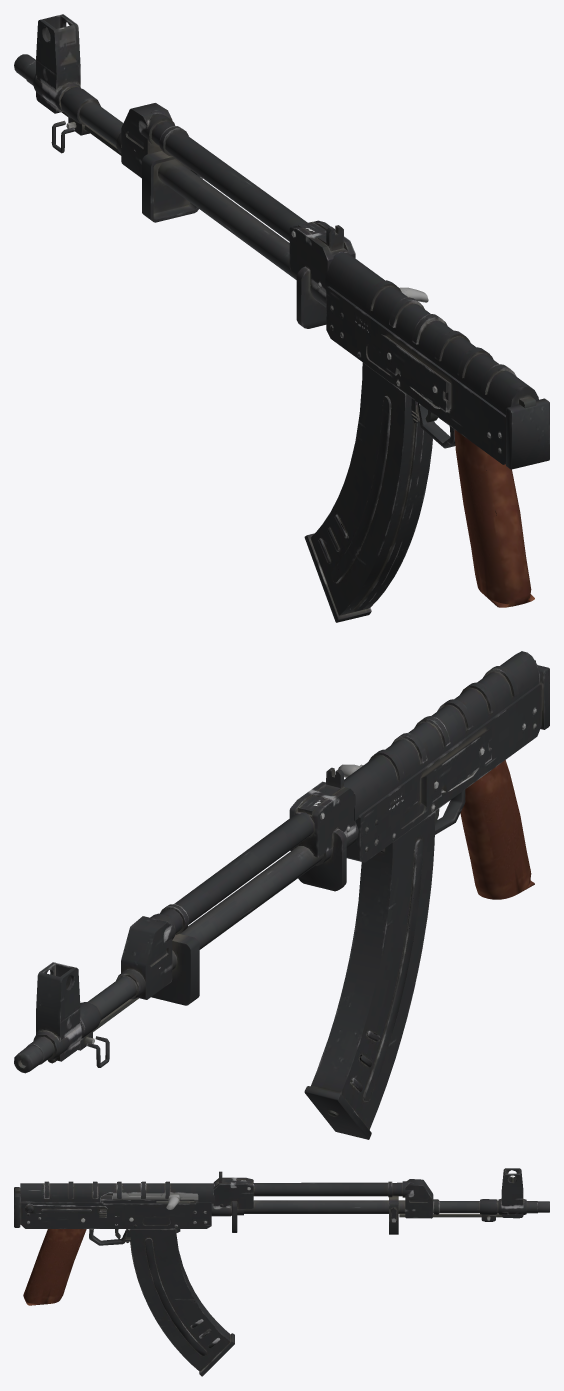
Rendered from fuzil_762_leve.glb.
The picture shows the model from 3 angles, top to bottom: view 1: azimuth 30°, elevation 25°; view 2: azimuth 150°, elevation 25°; view 3: azimuth 270°, elevation 25°; orthographic projection. The views are drawn at different scales.
Parts seen in each view (by area): view 1: fuzil_762_leve; view 2: fuzil_762_leve; view 3: fuzil_762_leve.
Boxes of the visible parts, x1,y1,x2,y2 form: fuzil_762_leve: (14,14,549,622); fuzil_762_leve: (14,651,549,1139); fuzil_762_leve: (14,1168,549,1376).
Size of the model in its own units: 0.0506 by 0.2756 by 0.6659.
1 material, 1 textured.
